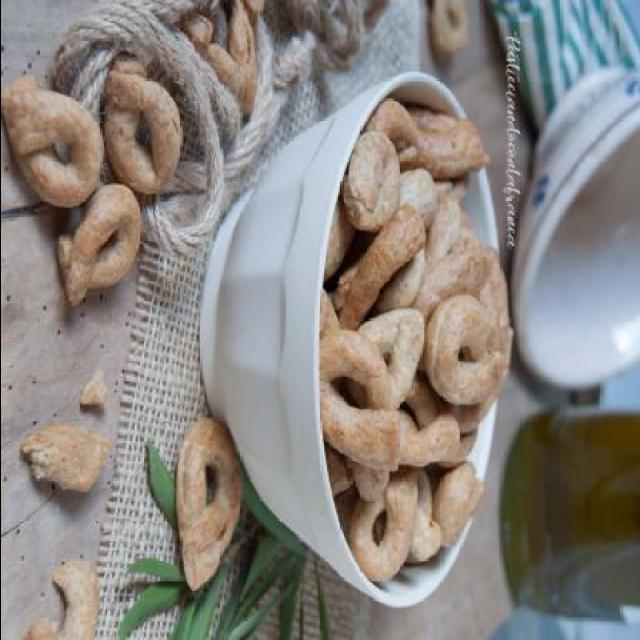Taralli: (321, 103, 510, 595), (8, 52, 185, 312), (177, 422, 245, 590)
